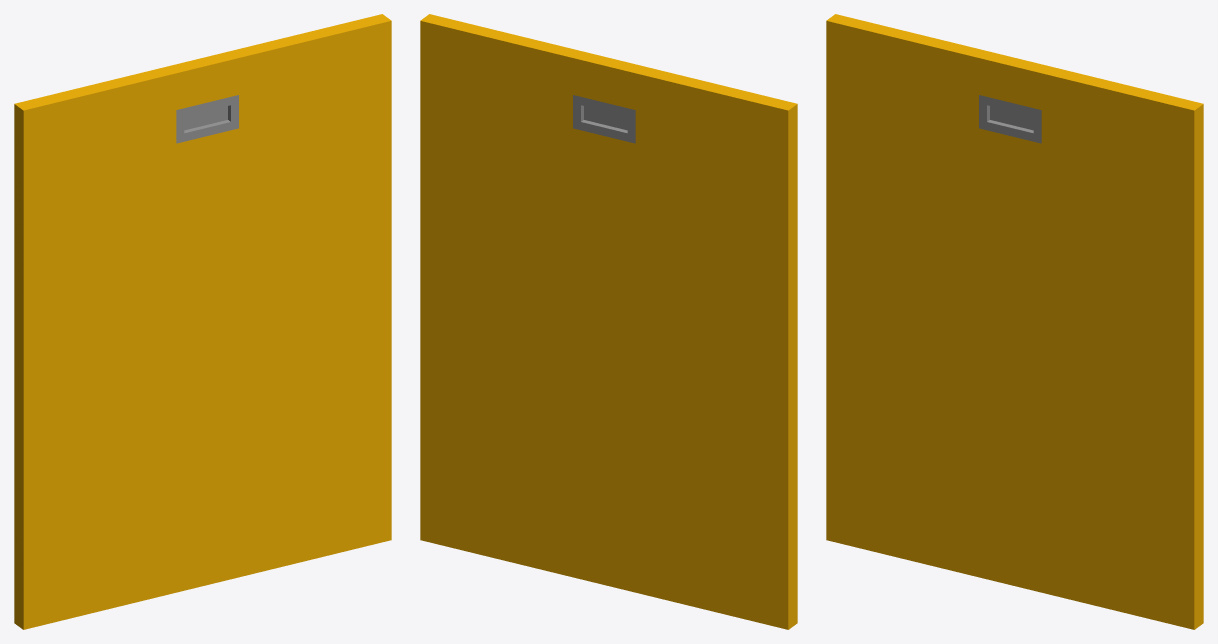
Rendered from door_manual_flush_3x3_dynamic.dae.
3 views of the same model, side by side, from view 1: azimuth 30°, elevation 25°; view 2: azimuth 150°, elevation 25°; view 3: azimuth 330°, elevation 25° (orthographic).
Visible parts, largest first — view 1: Cube; view 2: Cube; view 3: Cube.
Part boxes in pixels (x1,y1,x2,y2): Cube: [14, 14, 391, 629]; Cube: [420, 14, 797, 629]; Cube: [826, 14, 1203, 629].
Bounding box in the file's own units: 0.7188 × 0.0312 × 0.9688.
